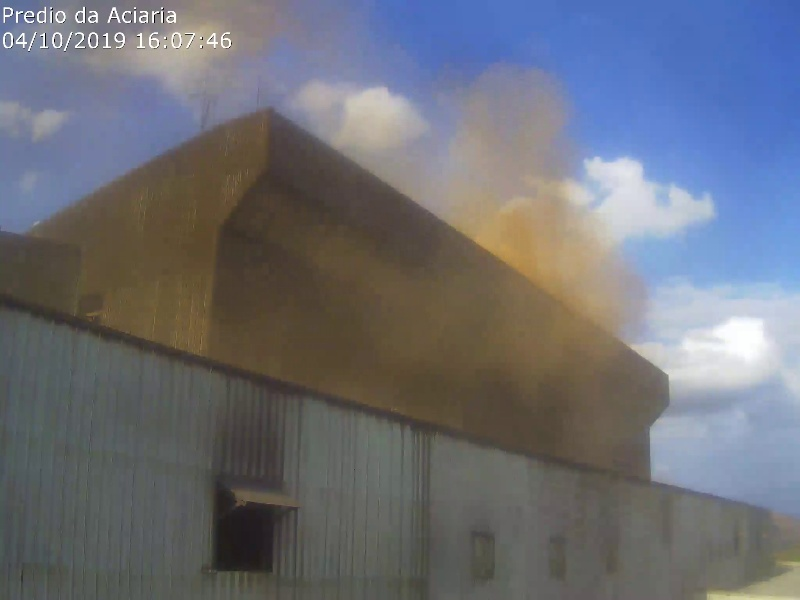bom: (665, 86, 798, 444), (465, 1, 800, 71)
pessimo: (417, 113, 657, 402), (252, 98, 492, 387), (57, 3, 276, 97)
